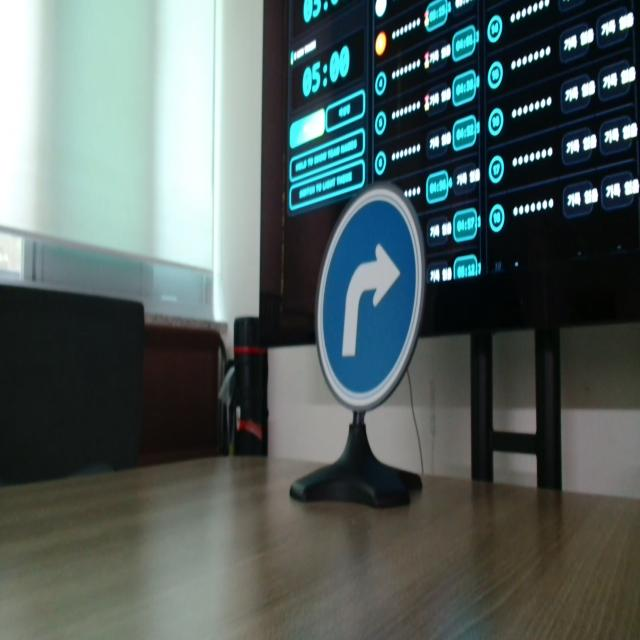right_dierection: (316, 186, 424, 414)
